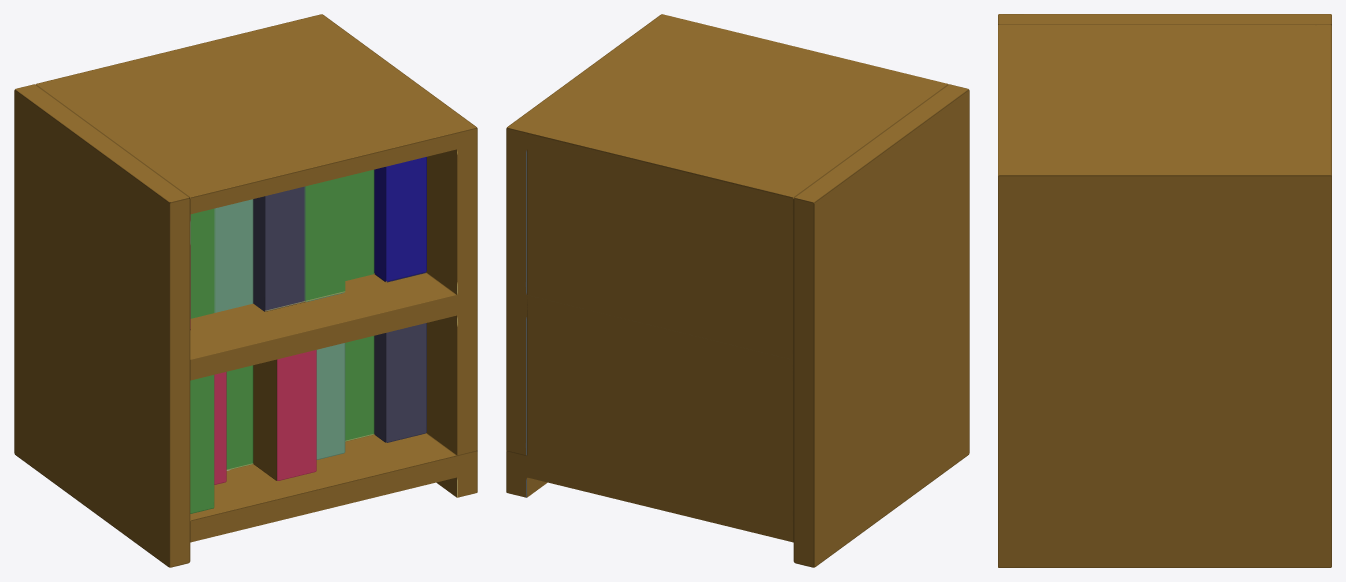
The model's file is Libreria.fbx.
The picture shows the model from 3 angles, left to right: view 1: azimuth 30°, elevation 25°; view 2: azimuth 150°, elevation 25°; view 3: azimuth 270°, elevation 25°; orthographic projection. The views are drawn at different scales.
Parts seen in each view (by area): view 1: cuboid, cuboid_1; view 2: cuboid, cuboid_1; view 3: cuboid, cuboid_1.
Part boxes in pixels (x1,y1,x2,y2): cuboid: (35,14,477,542); cuboid_1: (14,84,190,567); cuboid: (506,14,948,542); cuboid_1: (793,84,969,567); cuboid: (998,24,1331,567); cuboid_1: (998,14,1331,25).
Bounding box in the file's own units: 93.75 × 106 × 81.88.
1 material, 1 textured.
